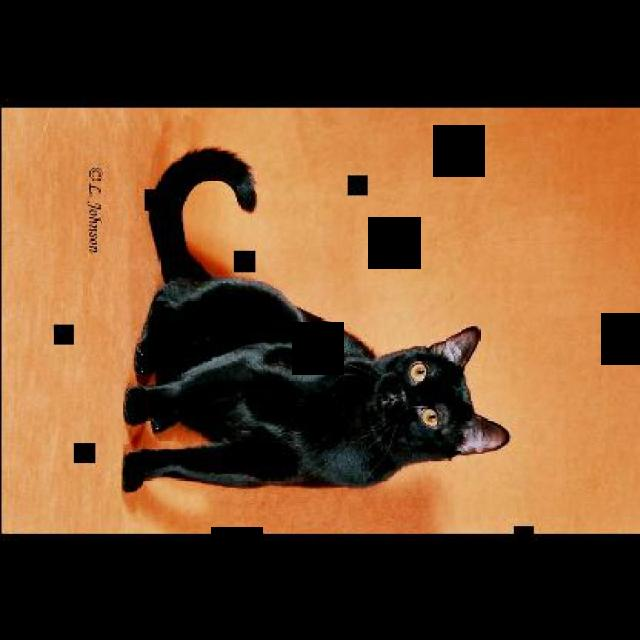unauthorized: (120, 145, 509, 492)
